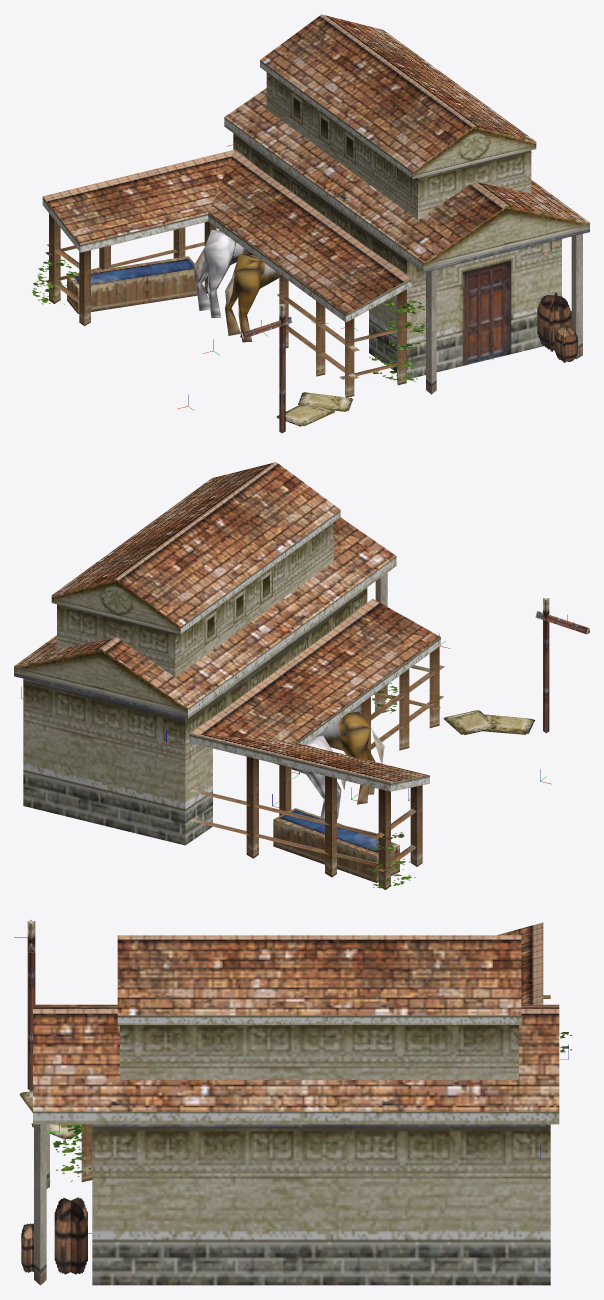
The model's file is idle.glb.
3 views of the same model, one above another, from view 1: azimuth 30°, elevation 25°; view 2: azimuth 150°, elevation 25°; view 3: azimuth 270°, elevation 25° (orthographic). The views are drawn at different scales.
Visible parts, largest first — view 1: building g stableage1Model; view 2: building g stableage1Model; view 3: building g stableage1Model.
Boxes of the visible parts, x1=… form: building g stableage1Model: x1=32, y1=14, x2=589, y2=433; building g stableage1Model: x1=14, y1=462, x2=589, y2=889; building g stableage1Model: x1=19, y1=920, x2=572, y2=1285.
Size of the model in its own units: 8.67 by 4.89 by 8.5.
Materials: 4 (3 with a texture image).
